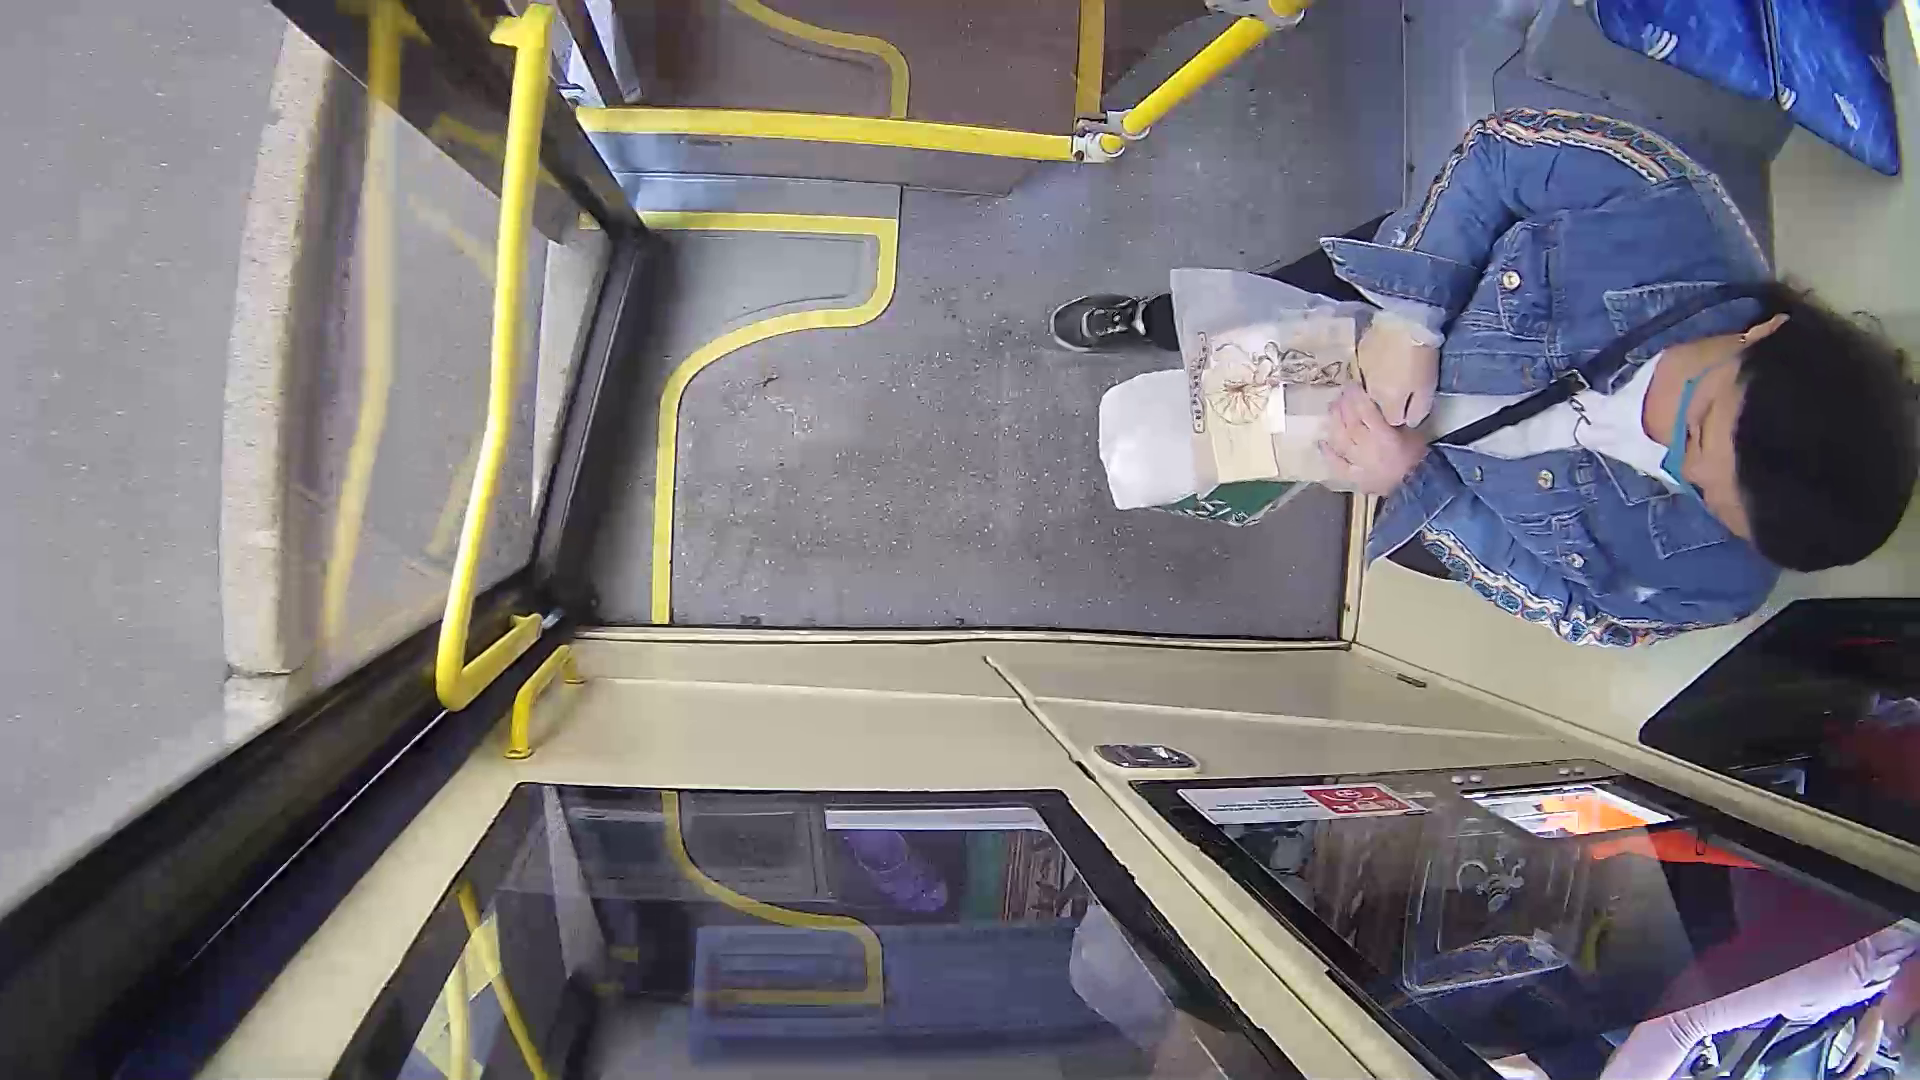person: (1146, 129, 1910, 705)
